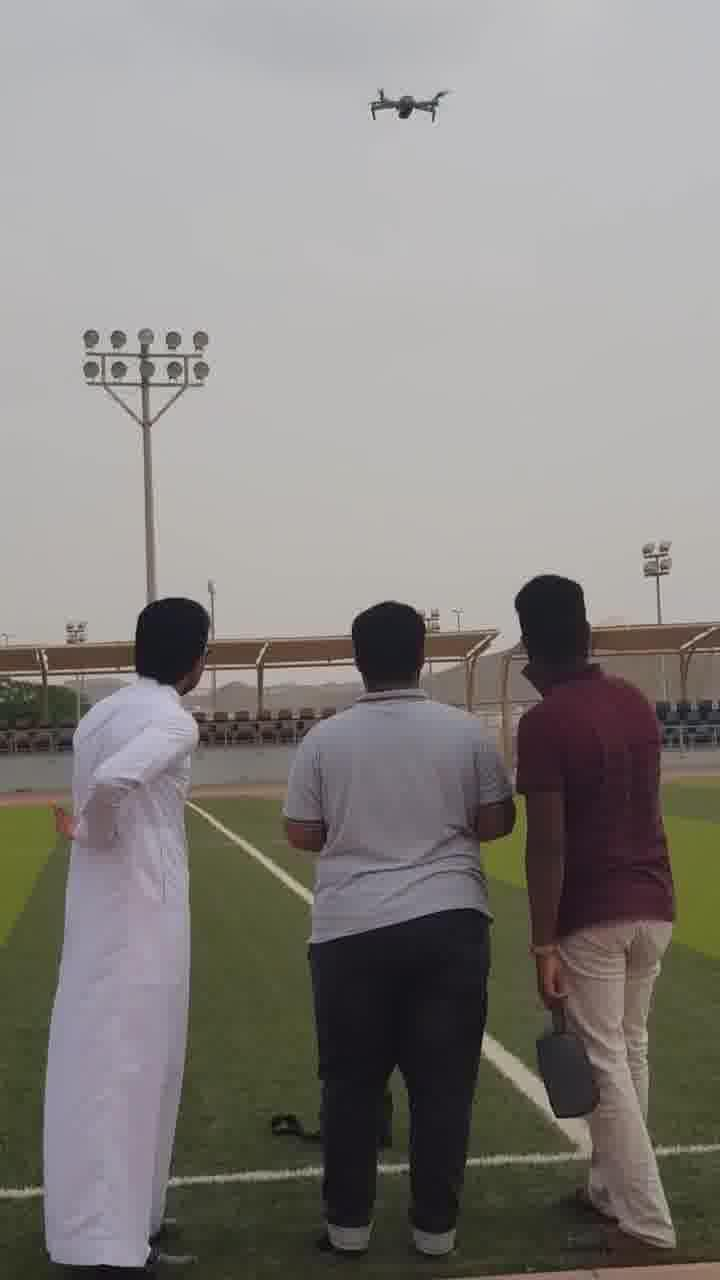drone: (346, 73, 470, 138)
